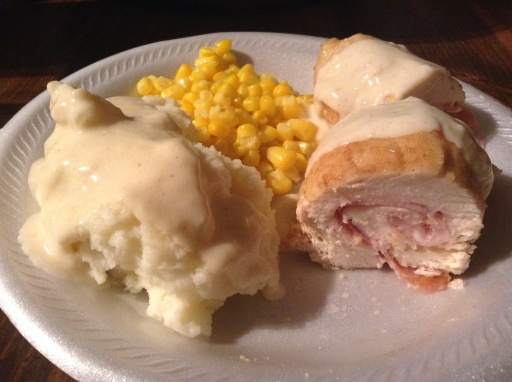background: (13, 19, 395, 202)
